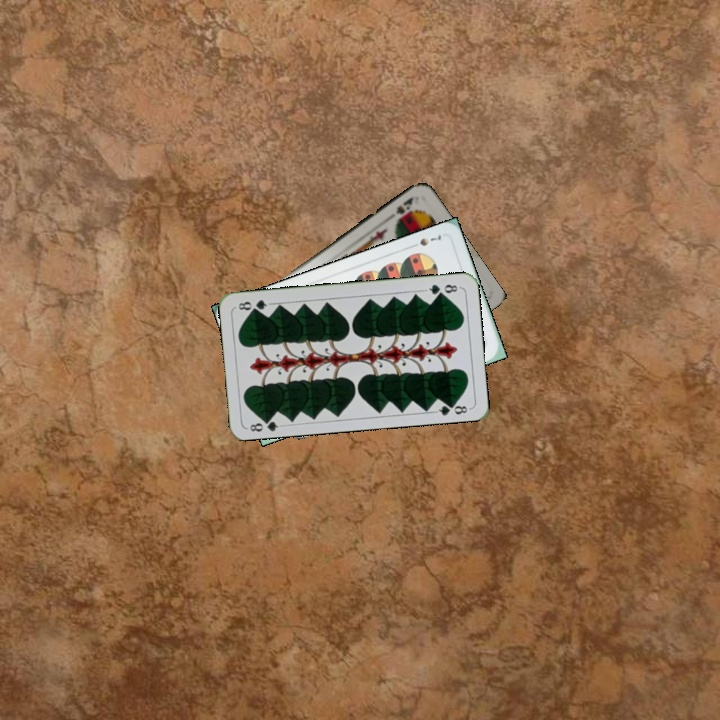G8: (244, 413, 285, 434), (422, 280, 462, 298)
S7: (416, 230, 444, 249)
SK: (384, 193, 416, 224)
